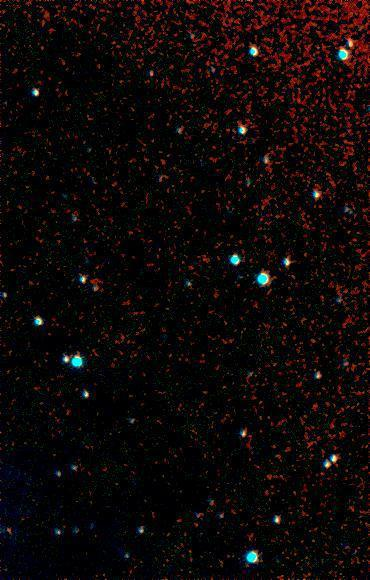star: (0, 515, 25, 545)
